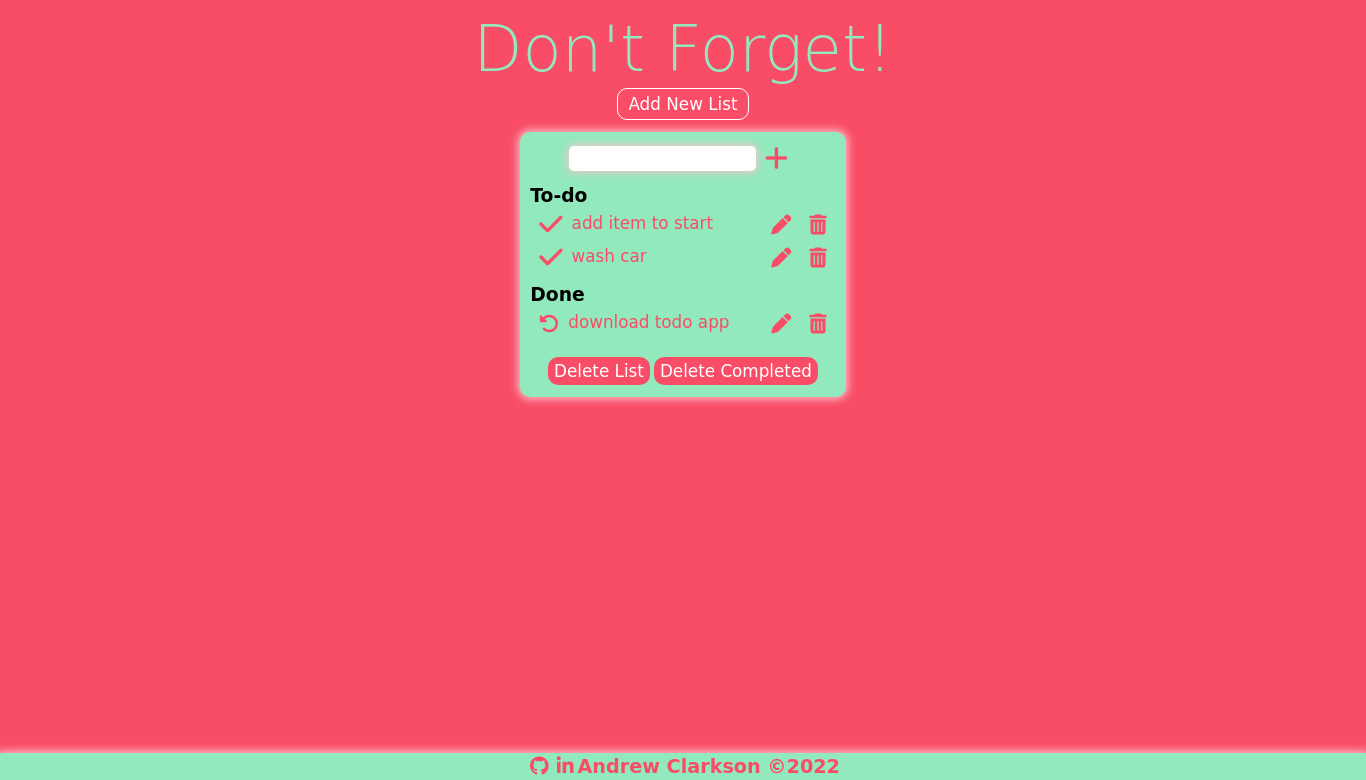
Scenario: single todo list testing › can delete item from todo
Click the button with test id ".todolist [data-cy=\"deleteButton\"]".
click(818, 258)  # box top-left (802, 243), bottom-right (834, 272)
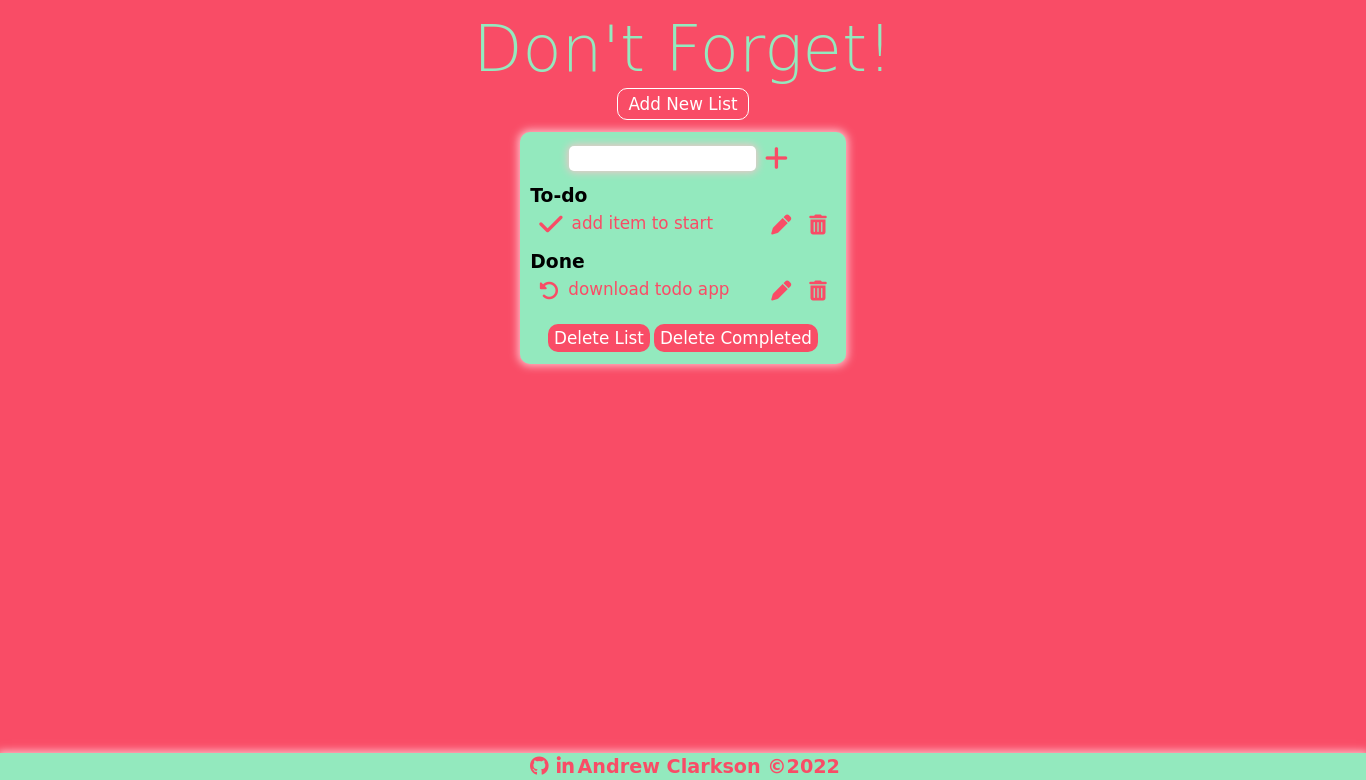
Now the text "wash car" is gone
